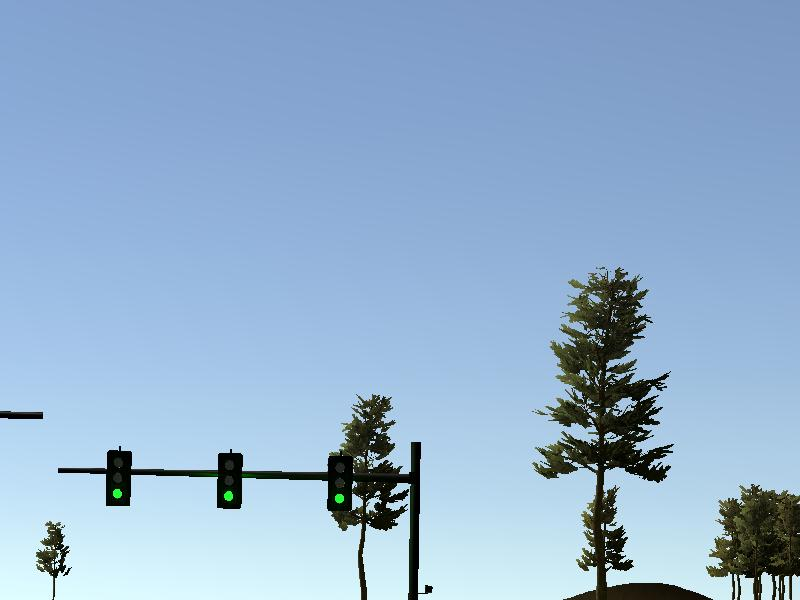green: (106, 449, 132, 506), (217, 451, 243, 508), (327, 454, 353, 511)
